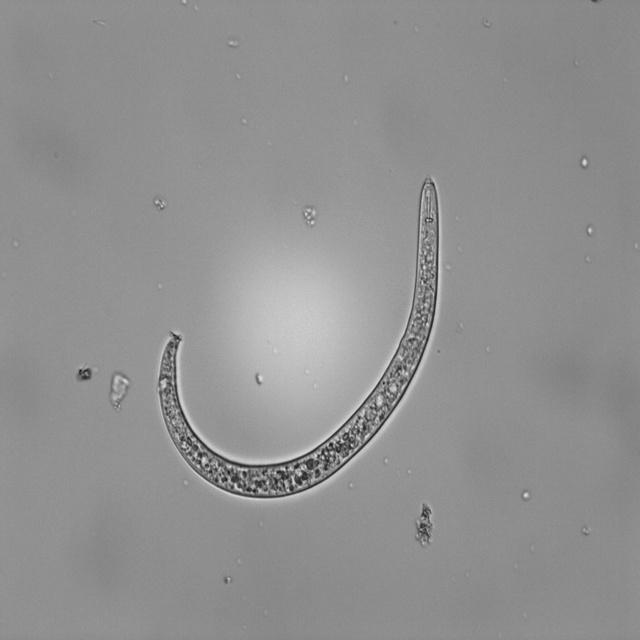Helicotylenchus: (146, 153, 449, 507)
